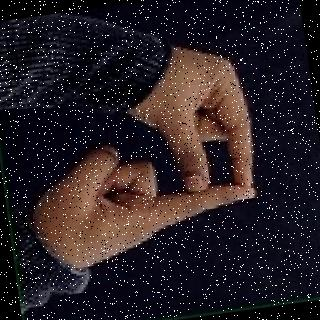P: (15, 31, 292, 280)
